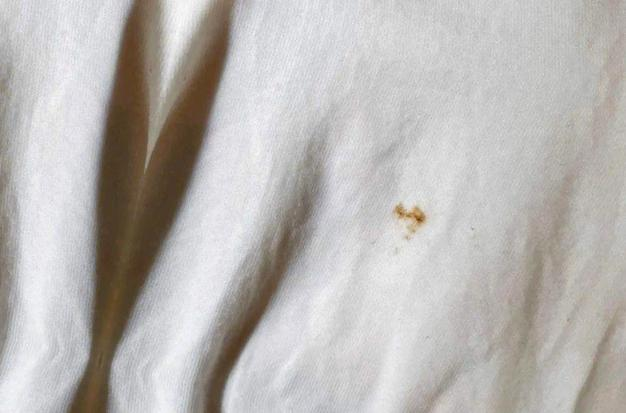stain: (386, 193, 430, 251)
